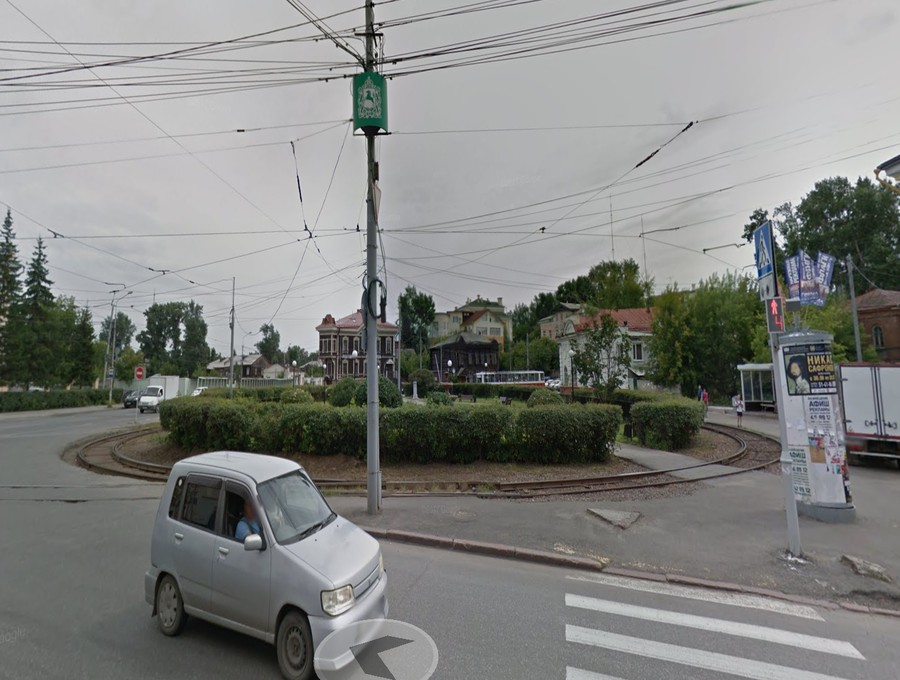Traffic Light-red: (763, 298, 787, 336)
